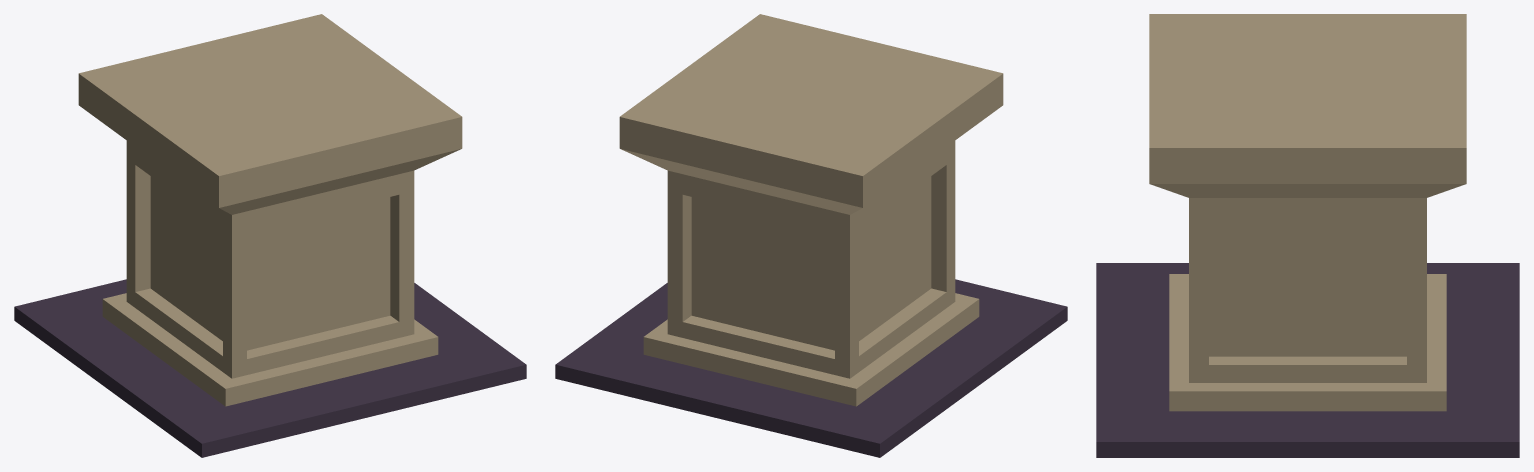
Rendered from pedestal_basic.dae.
3 renders of one model, left to right at view 1: azimuth 30°, elevation 25°; view 2: azimuth 150°, elevation 25°; view 3: azimuth 270°, elevation 25°, orthographic. The views are drawn at different scales.
Parts seen in each view (by area): view 1: pedestal_MSH; view 2: pedestal_MSH; view 3: pedestal_MSH.
Boxes of the visible parts, x1,y1,x2,y2 form: pedestal_MSH: (14,14,526,457); pedestal_MSH: (555,14,1067,457); pedestal_MSH: (1096,14,1519,457).
Bounding box in the file's own units: 1 × 0.75 × 1.
